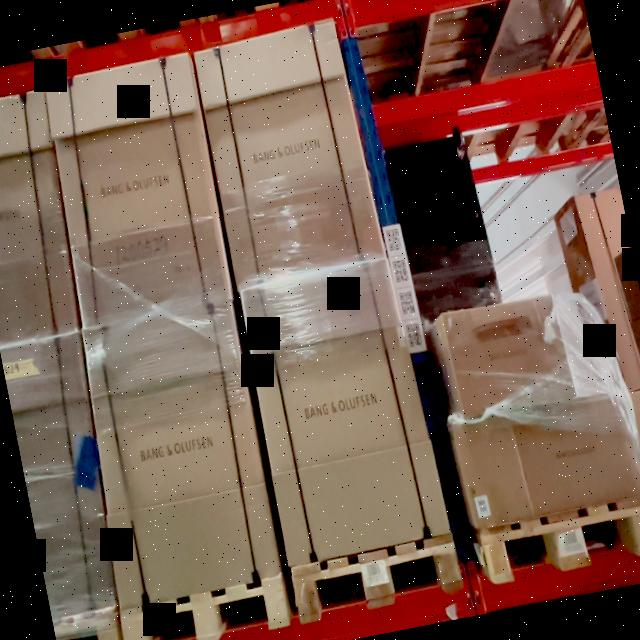box: (240, 263, 449, 561), (83, 304, 276, 610), (196, 19, 386, 285), (44, 55, 231, 325), (445, 294, 577, 419), (511, 399, 640, 517), (456, 413, 533, 528)
